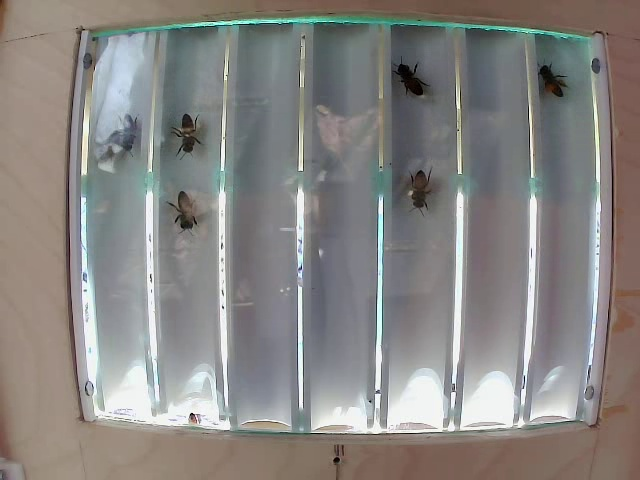bee: (527, 55, 576, 97), (101, 112, 151, 152), (390, 59, 429, 101), (402, 171, 433, 222), (172, 109, 199, 158), (174, 193, 204, 234)
